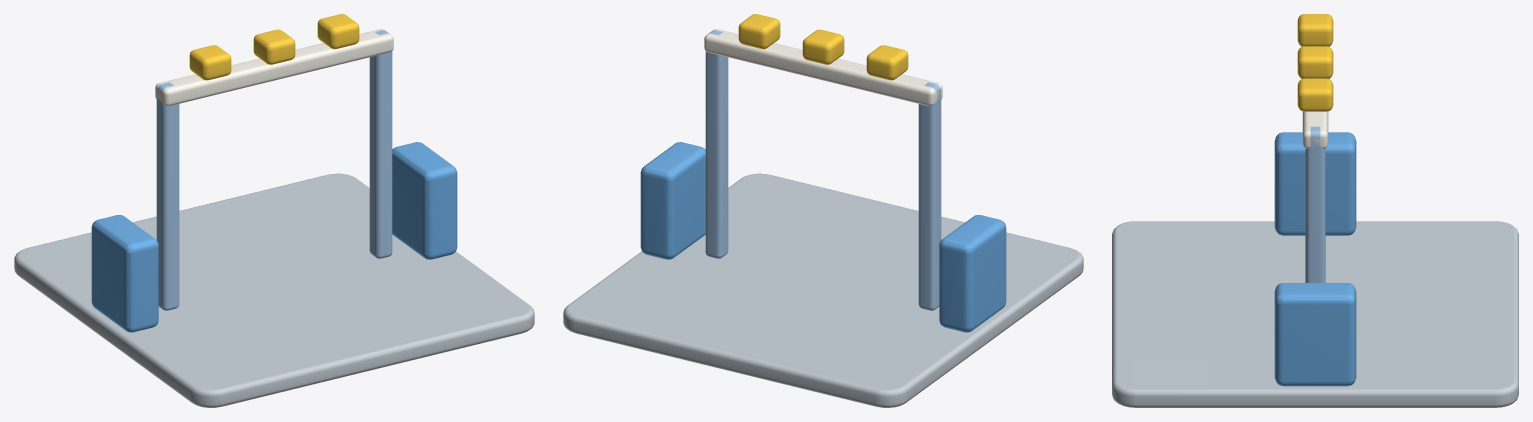
Rendered from pcv_walkthrough_checkpoint.glb.
The picture shows the model from 3 angles, left to right: view 1: azimuth 30°, elevation 25°; view 2: azimuth 150°, elevation 25°; view 3: azimuth 270°, elevation 25°; orthographic projection. The views are drawn at different scales.
Parts seen in each view (by area): view 1: pcv_walkthrough_checkpoint.walk_surface_floor, pcv_walkthrough_checkpoint.external_inspection_service_pedes (×2), pcv_walkthrough_checkpoint.clearance_lintel, pcv_walkthrough_checkpoint.clear_door_jamb.001, pcv_walkthrough_checkpoint.clear_door_jamb, pcv_walkthrough_checkpoint.overhead_sensor_block.001, pcv_walkthrough_checkpoint.overhead_sensor_block, pcv_walkthrough_checkpoint.overhead_sensor_block.002; view 2: pcv_walkthrough_checkpoint.walk_surface_floor, pcv_walkthrough_checkpoint.external_inspection_service_pedes (×2), pcv_walkthrough_checkpoint.clearance_lintel, pcv_walkthrough_checkpoint.clear_door_jamb, pcv_walkthrough_checkpoint.clear_door_jamb.001, pcv_walkthrough_checkpoint.overhead_sensor_block.001, pcv_walkthrough_checkpoint.overhead_sensor_block, pcv_walkthrough_checkpoint.overhead_sensor_block.002; view 3: pcv_walkthrough_checkpoint.walk_surface_floor, pcv_walkthrough_checkpoint.external_inspection_service_pedes (×2), pcv_walkthrough_checkpoint.clear_door_jamb.001, pcv_walkthrough_checkpoint.overhead_sensor_block.002, pcv_walkthrough_checkpoint.overhead_sensor_block, pcv_walkthrough_checkpoint.overhead_sensor_block.001, pcv_walkthrough_checkpoint.clearance_lintel.
Part boxes in pixels (x1=…): pcv_walkthrough_checkpoint.walk_surface_floor: x1=14, y1=173, x2=534, y2=407; pcv_walkthrough_checkpoint.external_inspection_service_pedes (×2): x1=91, y1=142, x2=457, y2=332; pcv_walkthrough_checkpoint.clearance_lintel: x1=155, y1=29, x2=393, y2=106; pcv_walkthrough_checkpoint.clear_door_jamb.001: x1=369, y1=30, x2=392, y2=258; pcv_walkthrough_checkpoint.clear_door_jamb: x1=156, y1=82, x2=179, y2=310; pcv_walkthrough_checkpoint.overhead_sensor_block.001: x1=253, y1=29, x2=295, y2=64; pcv_walkthrough_checkpoint.overhead_sensor_block: x1=189, y1=45, x2=231, y2=80; pcv_walkthrough_checkpoint.overhead_sensor_block.002: x1=317, y1=14, x2=359, y2=49; pcv_walkthrough_checkpoint.walk_surface_floor: x1=563, y1=173, x2=1083, y2=407; pcv_walkthrough_checkpoint.external_inspection_service_pedes (×2): x1=640, y1=142, x2=1006, y2=332; pcv_walkthrough_checkpoint.clearance_lintel: x1=704, y1=29, x2=942, y2=106; pcv_walkthrough_checkpoint.clear_door_jamb: x1=918, y1=82, x2=941, y2=310; pcv_walkthrough_checkpoint.clear_door_jamb.001: x1=705, y1=30, x2=728, y2=258; pcv_walkthrough_checkpoint.overhead_sensor_block.001: x1=802, y1=29, x2=844, y2=64; pcv_walkthrough_checkpoint.overhead_sensor_block: x1=866, y1=45, x2=908, y2=80; pcv_walkthrough_checkpoint.overhead_sensor_block.002: x1=738, y1=14, x2=780, y2=49; pcv_walkthrough_checkpoint.walk_surface_floor: x1=1112, y1=221, x2=1518, y2=407; pcv_walkthrough_checkpoint.external_inspection_service_pedes (×2): x1=1274, y1=132, x2=1356, y2=386; pcv_walkthrough_checkpoint.clear_door_jamb.001: x1=1305, y1=126, x2=1325, y2=282; pcv_walkthrough_checkpoint.overhead_sensor_block.002: x1=1297, y1=78, x2=1333, y2=111; pcv_walkthrough_checkpoint.overhead_sensor_block: x1=1297, y1=14, x2=1333, y2=46; pcv_walkthrough_checkpoint.overhead_sensor_block.001: x1=1297, y1=46, x2=1333, y2=78; pcv_walkthrough_checkpoint.clearance_lintel: x1=1302, y1=111, x2=1328, y2=148.
Bounding box in the file's own units: 4 × 2.95 × 4.
